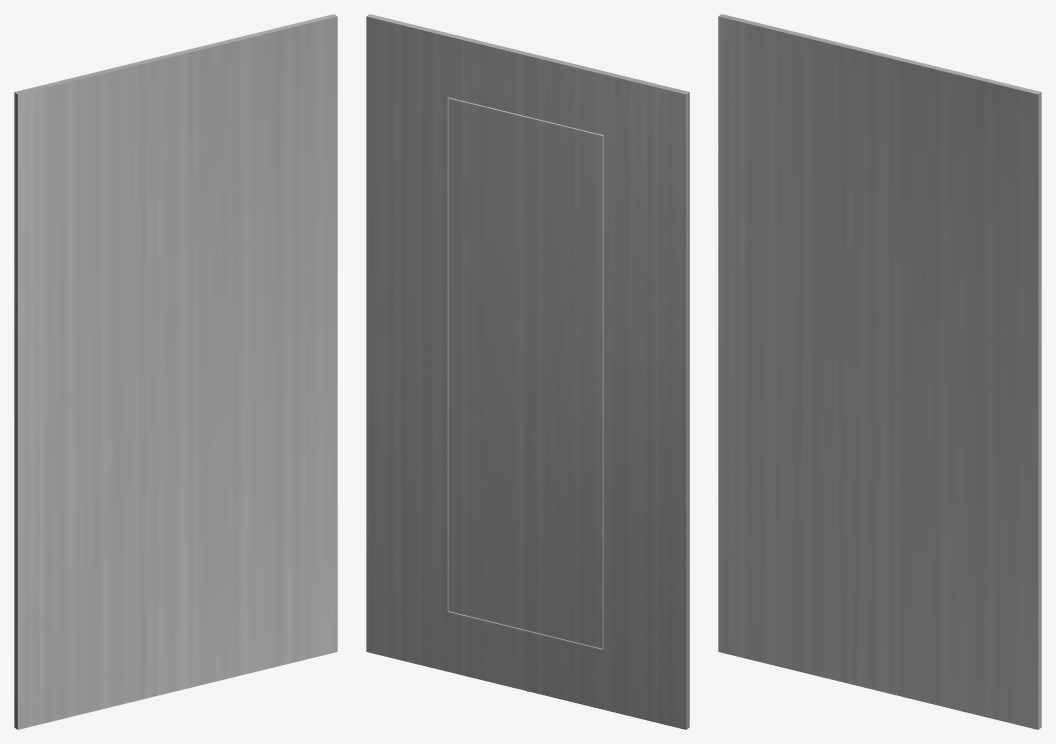
The model's file is Puerta.fbx.
The picture shows the model from 3 angles, left to right: view 1: azimuth 30°, elevation 25°; view 2: azimuth 150°, elevation 25°; view 3: azimuth 330°, elevation 25°; orthographic projection.
Visible parts, largest first — view 1: Cube.004; view 2: Cube.004; view 3: Cube.004.
Part boxes in pixels (x1,y1,x2,y2): Cube.004: (14,14,337,729); Cube.004: (366,14,689,729); Cube.004: (718,14,1041,729).
Bounding box in the file's own units: 749 × 1423 × 17.83.
1 material, 1 textured.
